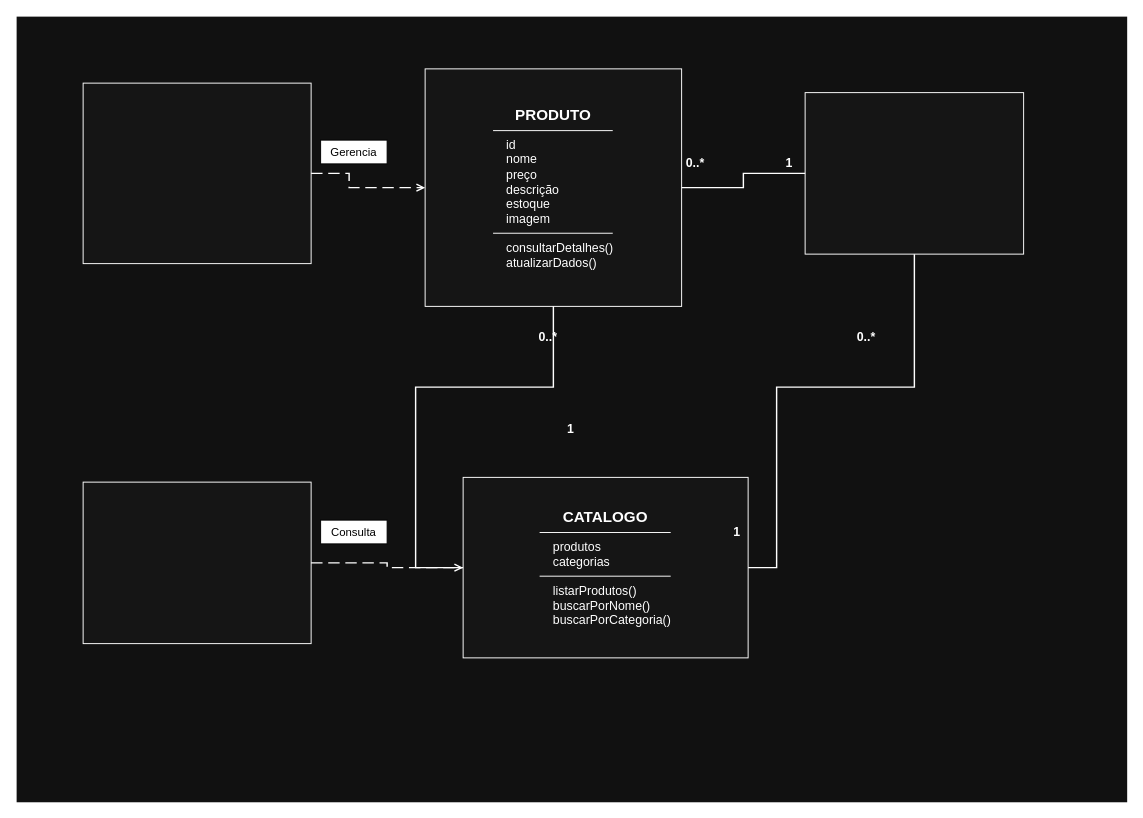
This 1143x818 diagram has some shape labels left out. Each missing label, with the centre of its shape:
"ADMINISTRADOR id nome email cadastrarProduto() editarProduto() excluirProduto()" goes at point (196, 173).
"CATEGORIA id nome listarProdutos()" goes at point (914, 173).
"CLIENTE id nome consultarCatalogo() localizarProduto()" goes at point (196, 562).
